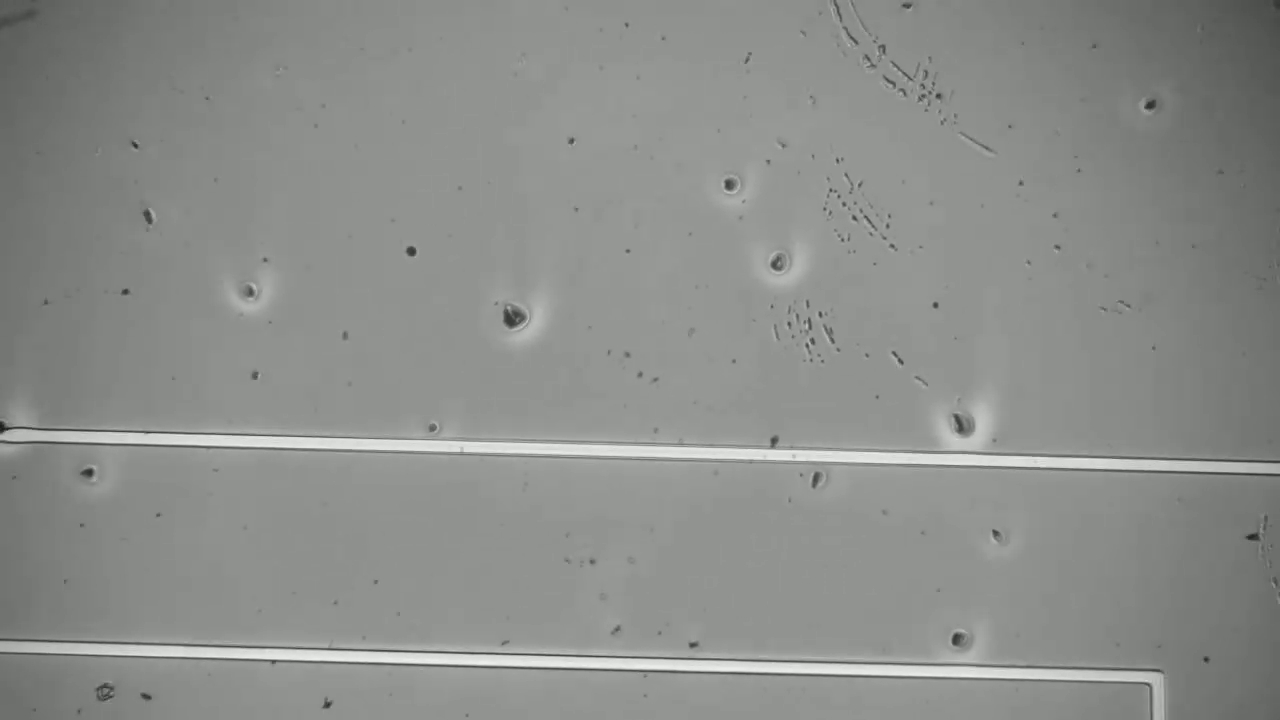stains_enbedded: (1, 417, 32, 457)
